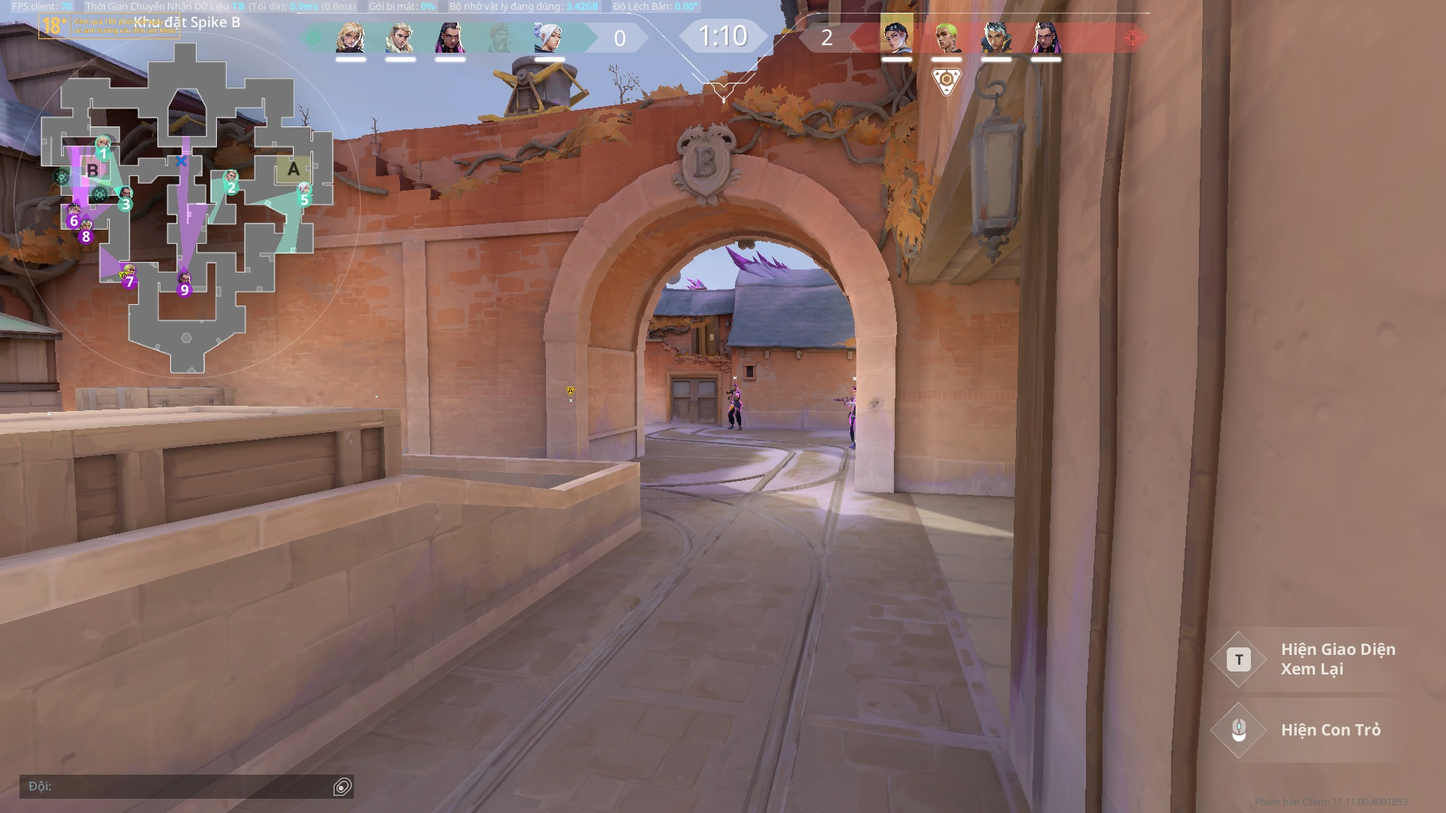body: (729, 388, 743, 403), (849, 397, 856, 415)
head: (851, 385, 856, 397), (731, 382, 736, 391)
